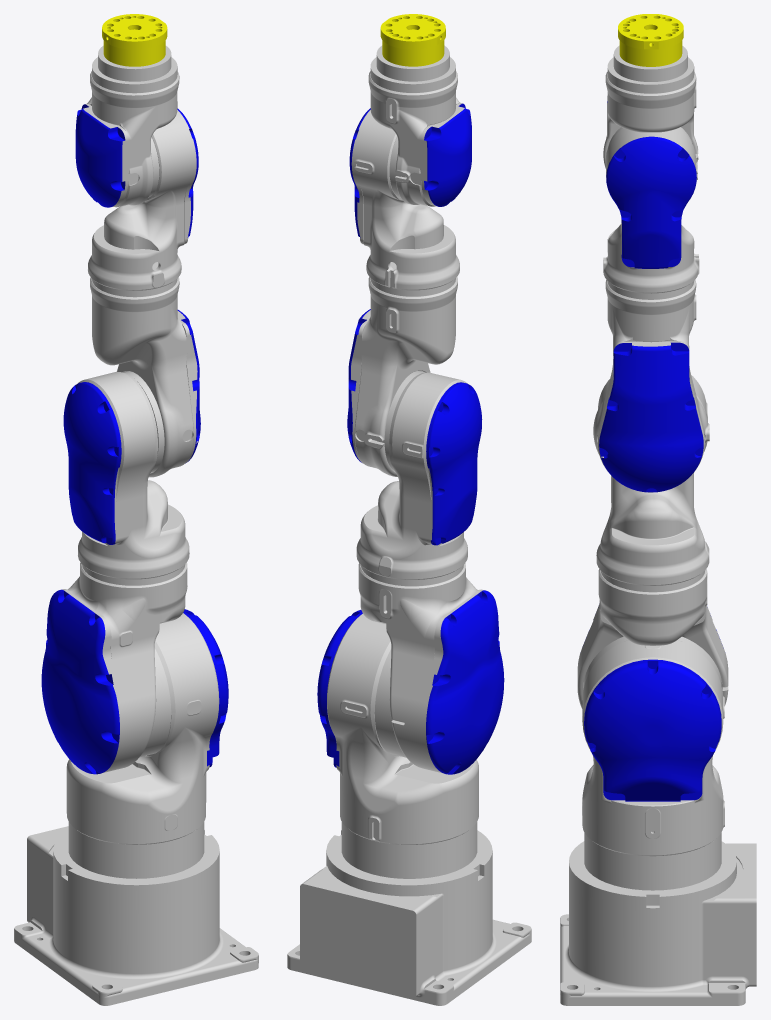
Rendered from Cobot_Belgrade.glb.
3 renders of one model, left to right at view 1: azimuth 30°, elevation 25°; view 2: azimuth 150°, elevation 25°; view 3: azimuth 270°, elevation 25°, orthographic.
Parts seen in each view (by area): view 1: Face-12[7], Face-10[6], Face-13[7], Face-8[6], Face-29[4], Face-140[4], Face-151[4], Face-262[1], Face-9[5], Face-23[7], Face-30[5], Face-50[7] (+43 smaller); view 2: Face-52[7], Face-87[6], Face-22[7], Face-36[7], Face-8[6], Face-140[4], Face-29[4], Face-151[4], Face-9[5], Face-50[7], Face-23[7], Face-30[5] (+41 smaller); view 3: Face-12[7], Face-19[6], Face-22[7], Face-46[7], Face-77[2], Face-10[6], Face-87[6], Face-243[2], Face-18[3], Face-113[3], Face-8[6], Face-29[3] (+43 smaller).
Part boxes in pixels (left/top/right/bottom): Face-12[7]: left=64, top=851, right=219, bottom=973; Face-10[6]: left=76, top=741, right=206, bottom=843; Face-13[7]: left=77, top=822, right=204, bottom=878; Face-8[6]: left=155, top=613, right=218, bottom=712; Face-29[4]: left=85, top=371, right=155, bottom=469; Face-140[4]: left=63, top=384, right=116, bottom=469; Face-151[4]: left=41, top=682, right=113, bottom=772; Face-262[1]: left=98, top=304, right=170, bottom=354; Face-9[5]: left=41, top=653, right=113, bottom=728; Face-23[7]: left=53, top=830, right=219, bottom=885; Face-30[5]: left=105, top=693, right=153, bottom=772; Face-50[7]: left=27, top=840, right=52, bottom=934; Face-52[7]: left=300, top=884, right=416, bottom=997; Face-87[6]: left=340, top=741, right=469, bottom=844; Face-22[7]: left=326, top=850, right=481, bottom=970; Face-36[7]: left=341, top=822, right=468, bottom=878; Face-8[6]: left=327, top=614, right=390, bottom=712; Face-140[4]: left=431, top=384, right=482, bottom=470; Face-29[4]: left=392, top=372, right=460, bottom=470; Face-151[4]: left=431, top=680, right=504, bottom=772; Face-9[5]: left=431, top=654, right=504, bottom=728; Face-50[7]: left=416, top=896, right=442, bottom=994; Face-23[7]: left=326, top=830, right=492, bottom=885; Face-30[5]: left=392, top=694, right=440, bottom=772; Face-12[7]: left=569, top=863, right=652, bottom=986; Face-19[6]: left=587, top=668, right=717, bottom=734; Face-22[7]: left=653, top=863, right=736, bottom=986; Face-46[7]: left=703, top=903, right=756, bottom=984; Face-77[2]: left=608, top=140, right=694, bottom=201; Face-10[6]: left=582, top=759, right=652, bottom=855; Face-87[6]: left=653, top=759, right=723, bottom=855; Face-243[2]: left=587, top=727, right=717, bottom=759; Face-18[3]: left=600, top=446, right=702, bottom=491; Face-113[3]: left=615, top=350, right=687, bottom=396; Face-8[6]: left=582, top=640, right=723, bottom=720; Face-29[3]: left=603, top=394, right=699, bottom=433.
Size of what is drawn, in the model's own units: 0.225 by 1.26 by 0.2385.
